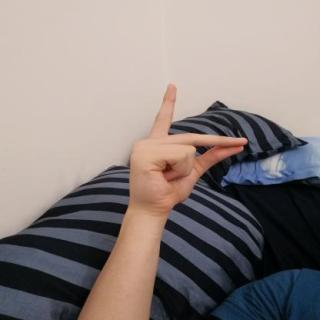TAA: (116, 79, 256, 220)
